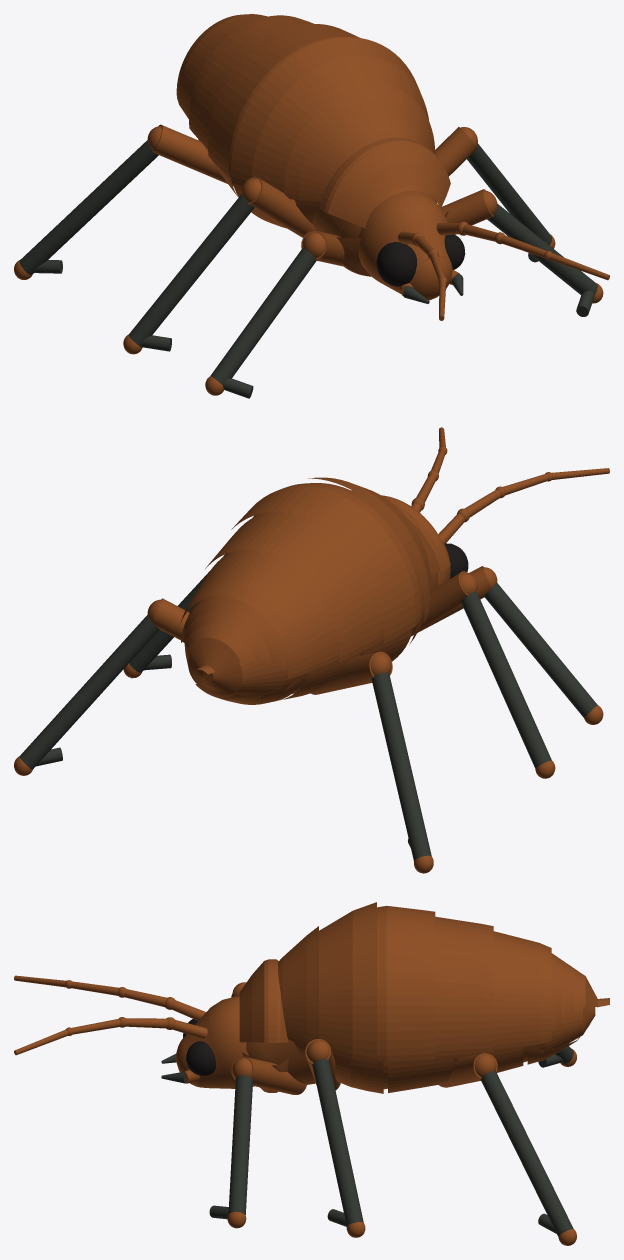
File: mini_beetle.glb
The picture shows the model from 3 angles, top to bottom: view 1: azimuth 30°, elevation 25°; view 2: azimuth 150°, elevation 25°; view 3: azimuth 270°, elevation 25°; orthographic projection. The views are drawn at different scales.
Visible parts, largest first — view 1: BeetlePlate_01, BeetlePlate_00, BeetleNeckTop, BeetlePlate_02, HeadBase001, BeetlePlate_03, Tibia008, Tibia011, Tibia007, BeetlePlate_04, Tibia010, Tibia006 (+9 smaller); view 2: BeetlePlate_03, BeetlePlate_02, BeetlePlate_04, BeetlePlate_05, Tibia009, Tibia011, Tibia008, Tibia007, BeetleBodyInner, BeetlePlate_01, BeetleNeckTop, Femur008 (+5 smaller); view 3: BeetlePlate_02, BeetlePlate_01, BeetlePlate_03, BeetlePlate_04, BeetlePlate_00, HeadBase001, BeetleNeckTop, Tibia009, Tibia010, Tibia006, BeetlePlate_05, BeetleSternite_02 (+7 smaller).
Boxes of the visible parts, left/top/right/bottom form: BeetlePlate_01: left=231, top=37, right=429, bottom=192; BeetlePlate_00: left=284, top=85, right=435, bottom=201; BeetleNeckTop: left=320, top=137, right=450, bottom=228; BeetlePlate_02: left=208, top=24, right=359, bottom=177; HeadBase001: left=358, top=190, right=452, bottom=300; BeetlePlate_03: left=189, top=15, right=313, bottom=148; Tibia008: left=128, top=194, right=254, bottom=347; Tibia011: left=19, top=140, right=158, bottom=274; Tibia007: left=210, top=248, right=316, bottom=385; BeetlePlate_04: left=176, top=14, right=267, bottom=118; Tibia010: left=467, top=144, right=551, bottom=245; Tibia006: left=487, top=203, right=597, bottom=294; BeetlePlate_03: left=205, top=511, right=384, bottom=662; BeetlePlate_02: left=231, top=483, right=423, bottom=643; BeetlePlate_04: left=180, top=549, right=339, bottom=678; BeetlePlate_05: left=181, top=595, right=288, bottom=674; Tibia009: left=19, top=615, right=159, bottom=769; Tibia011: left=371, top=672, right=431, bottom=860; Tibia008: left=461, top=591, right=551, bottom=768; Tibia007: left=484, top=583, right=597, bottom=717; BeetleBodyInner: left=184, top=490, right=423, bottom=696; BeetlePlate_01: left=308, top=477, right=430, bottom=623; BeetleNeckTop: left=381, top=495, right=450, bottom=574; Femur008: left=411, top=571, right=477, bottom=636; BeetlePlate_02: left=377, top=906, right=435, bottom=1061; BeetlePlate_01: left=319, top=902, right=376, bottom=1063; BeetlePlate_03: left=435, top=916, right=493, bottom=1056; BeetlePlate_04: left=493, top=931, right=551, bottom=1049; BeetlePlate_00: left=278, top=926, right=318, bottom=1046; HeadBase001: left=176, top=996, right=254, bottom=1088; BeetleNeckTop: left=239, top=959, right=288, bottom=1042; Tibia009: left=480, top=1070, right=573, bottom=1236; Tibia010: left=312, top=1059, right=363, bottom=1226; Tibia006: left=228, top=1075, right=252, bottom=1214; BeetlePlate_05: left=551, top=953, right=609, bottom=1029; BeetleSternite_02: left=388, top=1056, right=453, bottom=1092.
Size of the model in its own units: 2.98 by 1.77 by 3.92.
